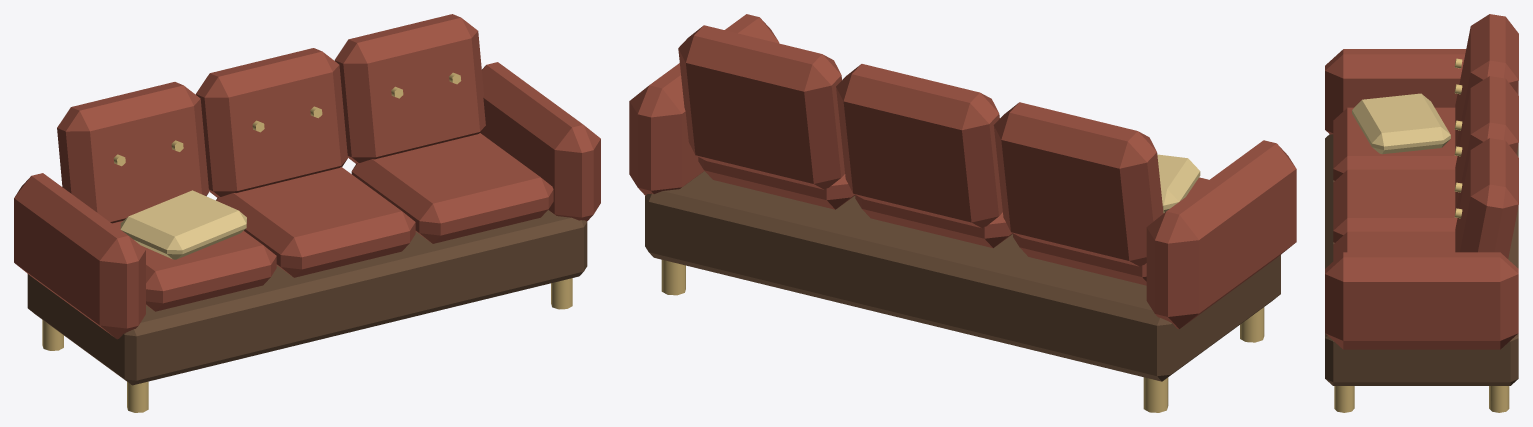
File: hm_sofa.glb
3 views of the same model, side by side, from view 1: azimuth 30°, elevation 25°; view 2: azimuth 150°, elevation 25°; view 3: azimuth 270°, elevation 25° (orthographic). The views are drawn at different scales.
Visible parts, largest first — view 1: hm_sofa; view 2: hm_sofa; view 3: hm_sofa.
Boxes of the visible parts, x1,y1,x2,y2 form: hm_sofa: (14, 14, 600, 412); hm_sofa: (629, 14, 1296, 412); hm_sofa: (1325, 14, 1518, 412).
Size of the model in its own units: 2.6 by 1.16 by 0.9514.
